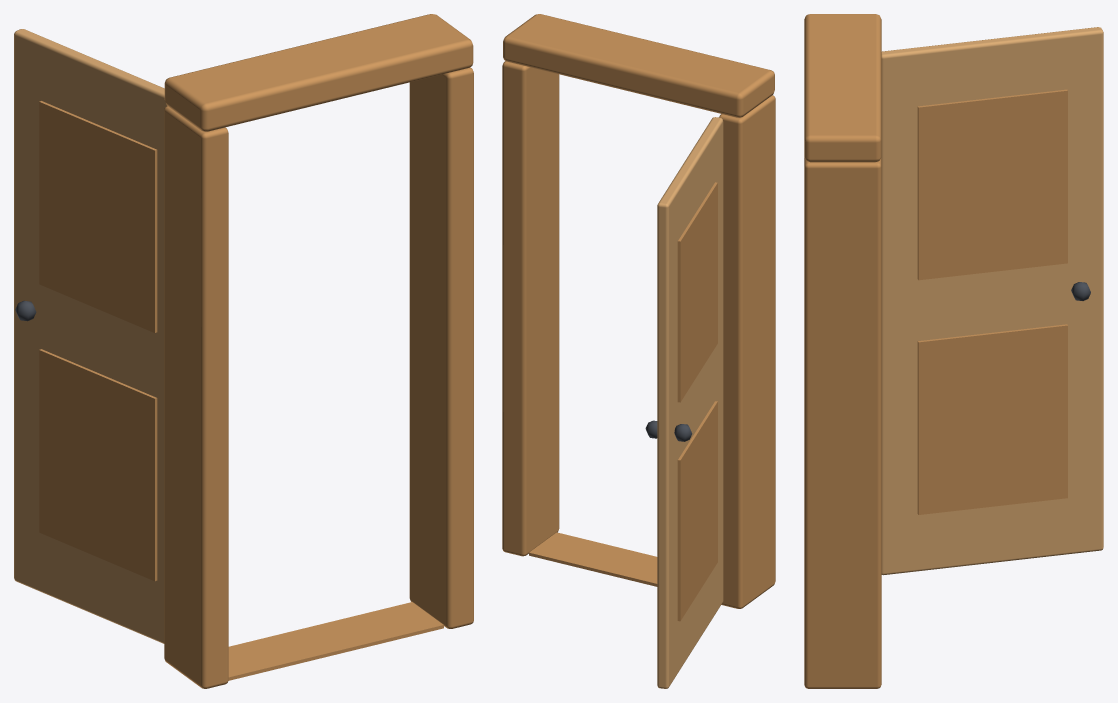
The model's file is wg_wand_sockel_tuer.glb.
3 renders of one model, left to right at view 1: azimuth 30°, elevation 25°; view 2: azimuth 150°, elevation 25°; view 3: azimuth 270°, elevation 25°, orthographic. The views are drawn at different scales.
Visible parts, largest first — view 1: wg_wand_sockel_tuer; view 2: wg_wand_sockel_tuer; view 3: wg_wand_sockel_tuer.
Boxes of the visible parts, bbox=[...] form: wg_wand_sockel_tuer: bbox=[14, 14, 473, 688]; wg_wand_sockel_tuer: bbox=[502, 14, 775, 688]; wg_wand_sockel_tuer: bbox=[804, 14, 1103, 688].
Size of the model in its own units: 1.16 by 2.05 by 1.01.
